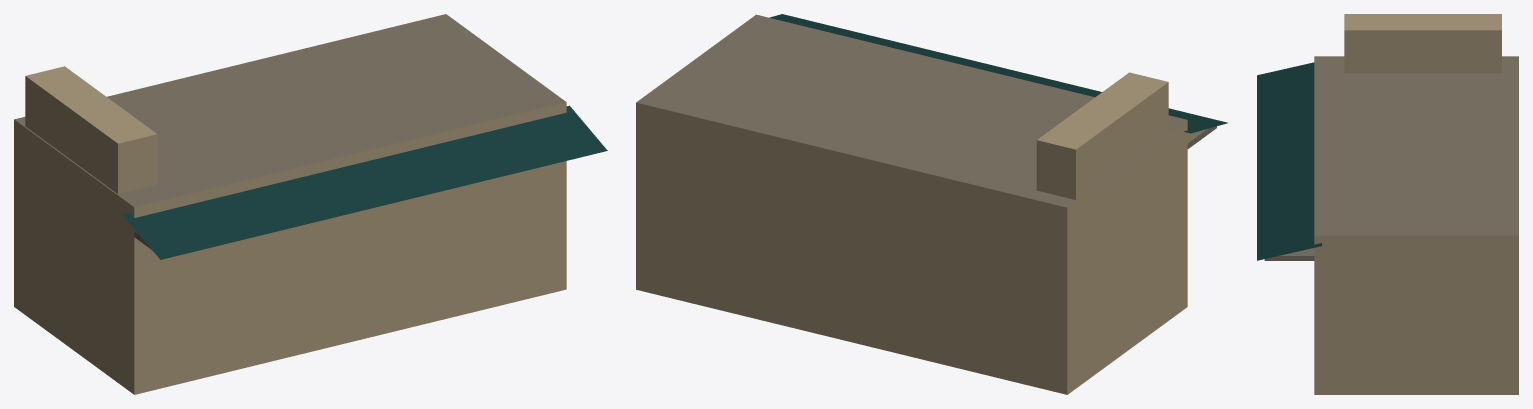
The model's file is cr-motor-court.towns-v1.lod2.glb.
The picture shows the model from 3 angles, left to right: view 1: azimuth 30°, elevation 25°; view 2: azimuth 150°, elevation 25°; view 3: azimuth 270°, elevation 25°; orthographic projection. The views are drawn at different scales.
Visible parts, largest first — view 1: cr-motor-court; view 2: cr-motor-court; view 3: cr-motor-court.
Part boxes in pixels (left/top/right/bottom): cr-motor-court: left=14, top=14, right=607, bottom=394; cr-motor-court: left=636, top=14, right=1227, bottom=394; cr-motor-court: left=1257, top=14, right=1518, bottom=394.
Size of the model in its own units: 17.6 by 8.95 by 10.5.
